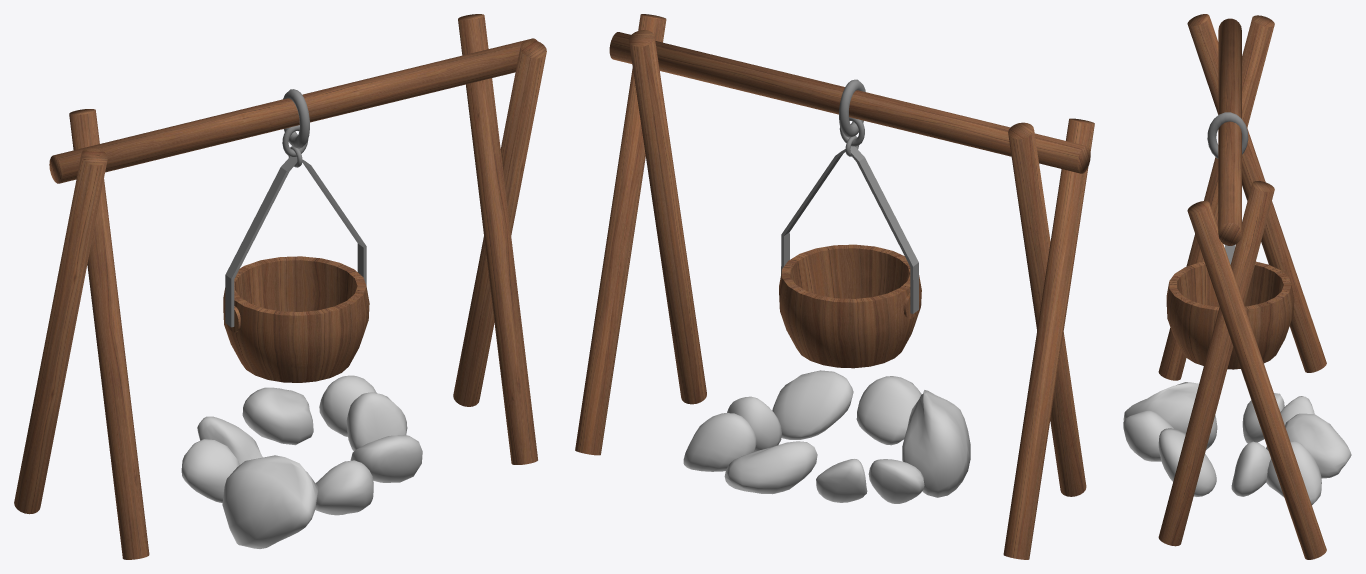
The model's file is Kochstelle Lagerfeuer.fbx.
The picture shows the model from 3 angles, left to right: view 1: azimuth 30°, elevation 25°; view 2: azimuth 150°, elevation 25°; view 3: azimuth 270°, elevation 25°; orthographic projection. The views are drawn at different scales.
Visible parts, largest first — view 1: Gestell, Steine, Topf, Halterung; view 2: Gestell, Steine, Topf, Halterung; view 3: Gestell, Steine, Topf, Halterung.
Boxes of the visible parts, x1=… form: Gestell: x1=14, y1=14, x2=546, y2=559; Steine: x1=181, y1=375, x2=422, y2=548; Topf: x1=223, y1=156, x2=369, y2=382; Halterung: x1=282, y1=89, x2=309, y2=167; Gestell: x1=575, y1=14, x2=1094, y2=559; Steine: x1=683, y1=370, x2=970, y2=503; Topf: x1=779, y1=146, x2=921, y2=368; Halterung: x1=839, y1=79, x2=865, y2=156; Gestell: x1=1158, y1=14, x2=1326, y2=559; Steine: x1=1123, y1=382, x2=1351, y2=504; Topf: x1=1166, y1=245, x2=1294, y2=369; Halterung: x1=1207, y1=112, x2=1248, y2=158.
Bounding box in the file's own units: 326 × 284 × 154.
